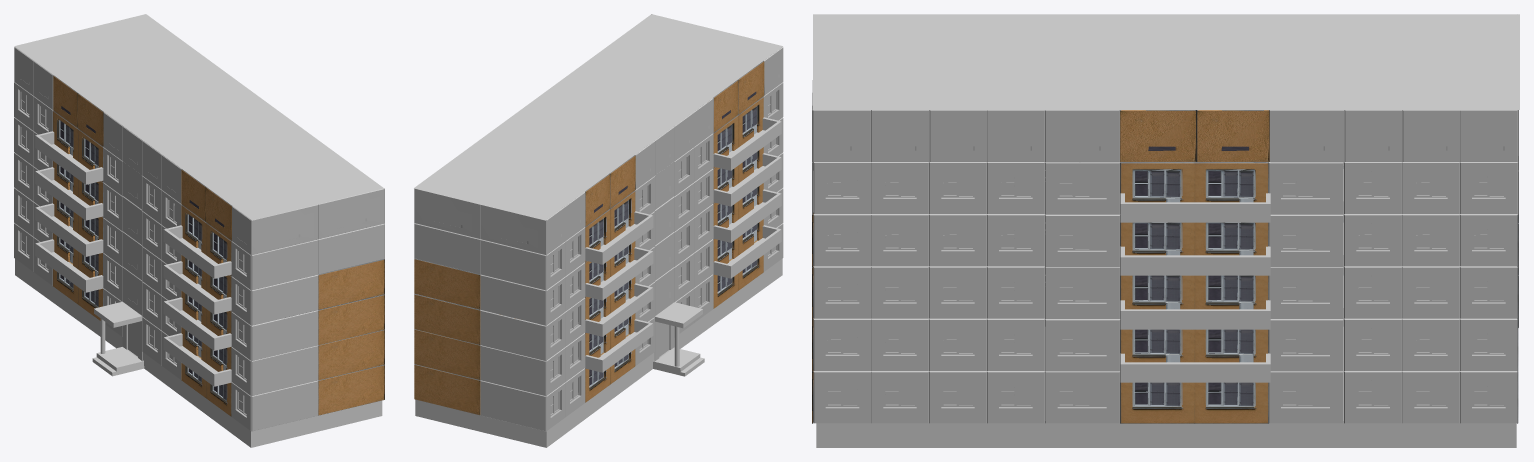
The model's file is house.fbx.
The picture shows the model from 3 angles, left to right: view 1: azimuth 30°, elevation 25°; view 2: azimuth 150°, elevation 25°; view 3: azimuth 270°, elevation 25°; orthographic projection. The views are drawn at different scales.
Visible parts, largest first — view 1: Meshpart3, Cube, Meshpart1, Meshpart4, Cube.002, Cube.006, Cube.005, Cube.007, Cube.004, Cube.008, Cube.003, Cube.001; view 2: Meshpart3, Cube, Meshpart1, Meshpart4, Cube.002, Cube.004, Cube.003, Cube.005, Cube.007, Cube.006, Cube.001, Cube.008; view 3: Meshpart2, Cube, Meshpart1, Cube.011, Cube.009, Cube.010, Cube.012.
Boxes of the visible parts, <box> form: Meshpart3: <box>14,47,318,431</box>; Cube: <box>14,14,383,447</box>; Meshpart1: <box>53,75,384,416</box>; Meshpart4: <box>318,188,384,274</box>; Cube.002: <box>163,297,298,350</box>; Cube.006: <box>35,131,103,184</box>; Cube.005: <box>35,167,103,220</box>; Cube.007: <box>35,203,103,256</box>; Cube.004: <box>163,261,231,314</box>; Cube.008: <box>35,239,103,292</box>; Cube.003: <box>163,225,231,278</box>; Cube.001: <box>163,333,231,386</box>; Meshpart3: <box>480,47,783,431</box>; Cube: <box>414,14,782,447</box>; Meshpart1: <box>414,61,764,415</box>; Meshpart4: <box>414,14,651,274</box>; Cube.002: <box>713,189,781,242</box>; Cube.004: <box>713,153,781,206</box>; Cube.003: <box>713,117,781,170</box>; Cube.005: <box>585,247,653,300</box>; Cube.007: <box>585,283,653,336</box>; Cube.006: <box>585,211,653,264</box>; Cube.001: <box>713,225,781,278</box>; Cube.008: <box>537,319,653,372</box>; Meshpart2: <box>813,110,1517,423</box>; Cube: <box>813,14,1519,447</box>; Meshpart1: <box>812,110,1518,423</box>; Cube.011: <box>1120,162,1270,222</box>; Cube.009: <box>1120,353,1270,382</box>; Cube.010: <box>1120,300,1270,329</box>; Cube.012: <box>1120,246,1270,275</box>.
Bounding box in the file's own units: 406 × 499 × 944.
